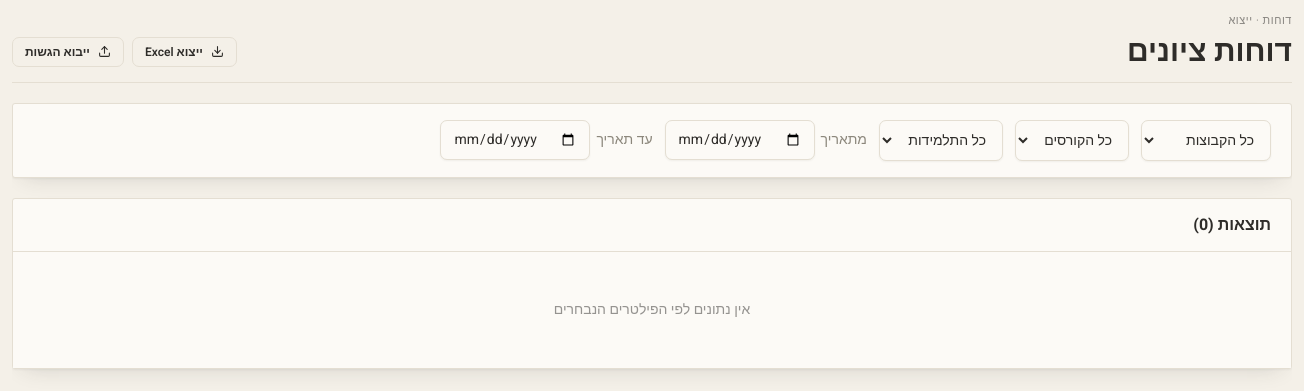
Test: ReportsPage › shows a clear-filters button after selecting a group and refetches
This screenshot has width=1304, height=391.
Expected: the text "אין נתונים לפי הפילטרים הנבחרים" is shown, [554, 300, 750, 320]
Select "קבוצה א 2026" in the dropdown named "סינון לפי קבוצה": [1206, 140] box [1141, 120, 1271, 161]
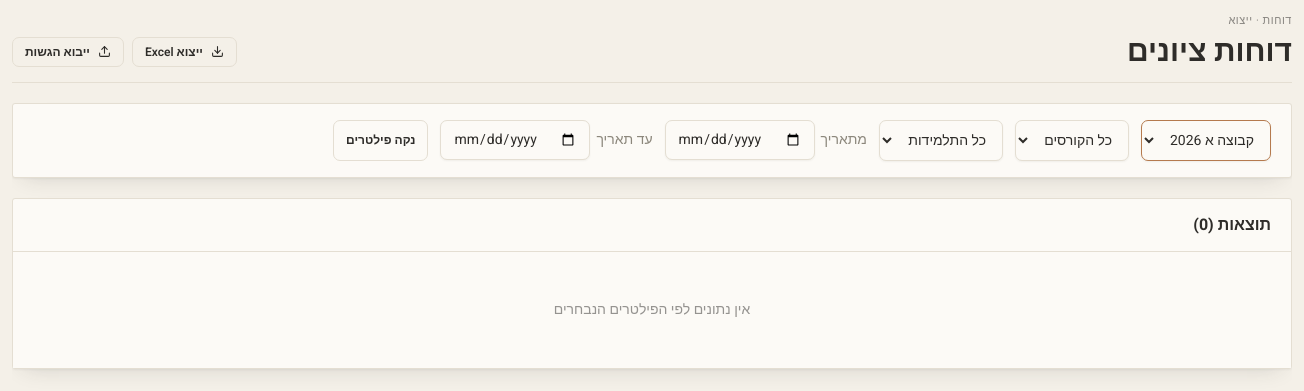
Expected: the button "נקה פילטרים" is shown, [333, 120, 428, 161]
